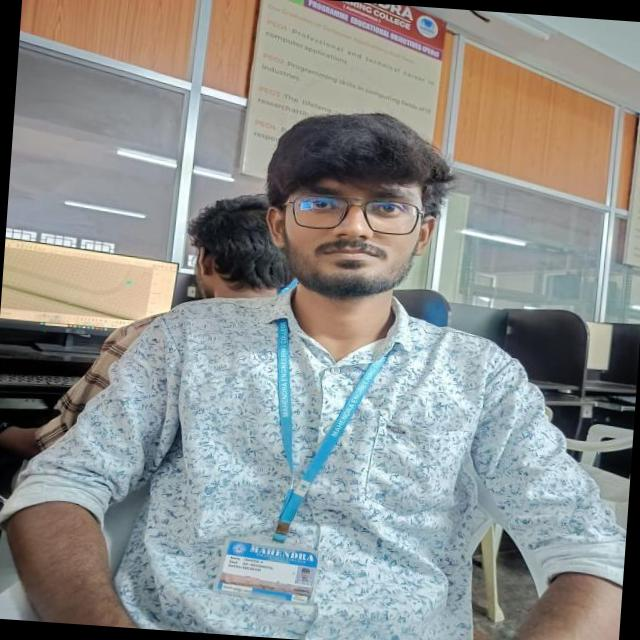id_card: (214, 299, 396, 602)
